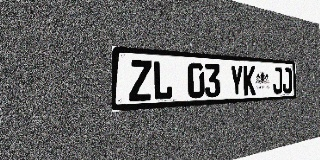0: (187, 62, 204, 99)
3: (205, 63, 220, 98)
J: (282, 67, 292, 94), (273, 67, 282, 94)
K: (243, 65, 255, 96)
L: (152, 61, 173, 100)
Y: (230, 65, 243, 96)
Z: (129, 59, 152, 102)
